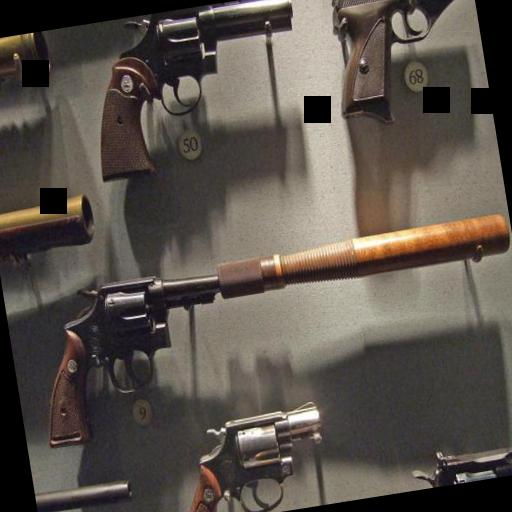Handgun: (17, 194, 512, 456)
